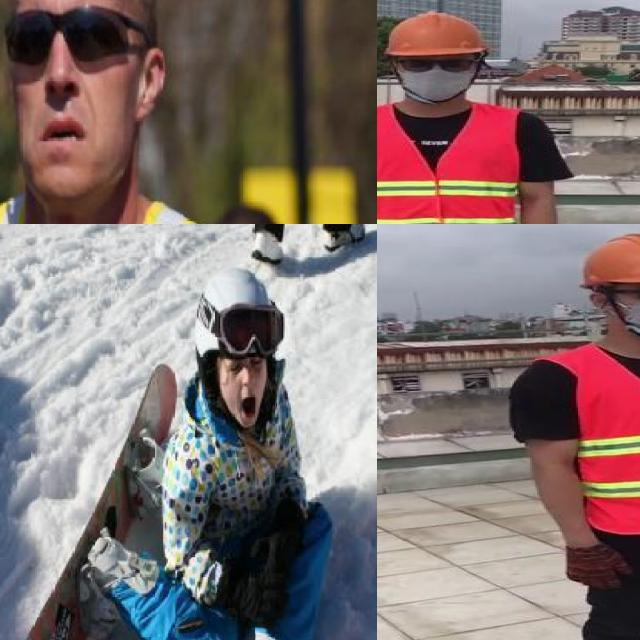face_mask: (400, 55, 474, 101), (619, 278, 640, 336)
face_nomask: (4, 11, 128, 158), (222, 356, 272, 418)
glasses: (6, 11, 152, 63), (208, 298, 294, 360), (395, 55, 481, 76), (621, 282, 640, 307)
hand_glove: (566, 544, 633, 591)
head_helmet: (377, 13, 494, 56), (562, 230, 640, 291)
person: (110, 261, 341, 640), (0, 0, 286, 224), (495, 228, 640, 640), (377, 5, 572, 224)
shoes: (245, 224, 293, 267), (314, 224, 373, 253)
vest: (377, 102, 531, 224), (578, 341, 640, 534)
